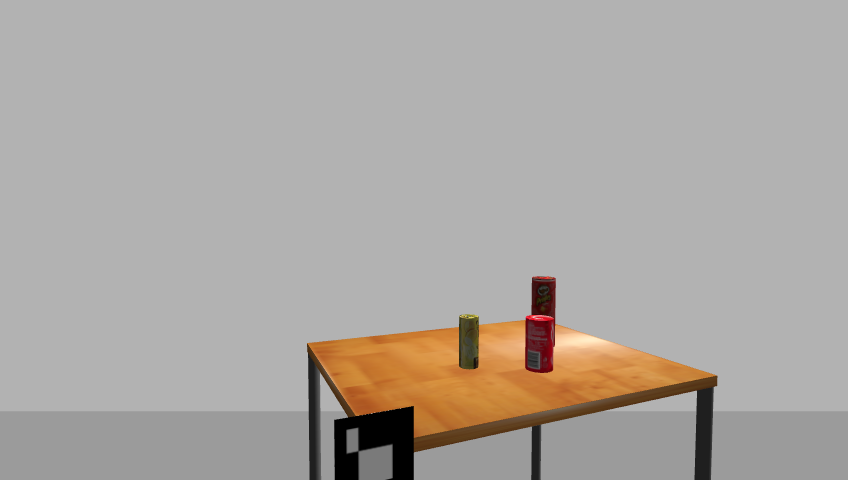aruco marker: (327, 406, 419, 480)
biscuits pack: (456, 314, 480, 371)
coke can: (523, 316, 555, 373)
dinner table: (297, 318, 727, 480)
pringles can: (530, 275, 557, 358)
